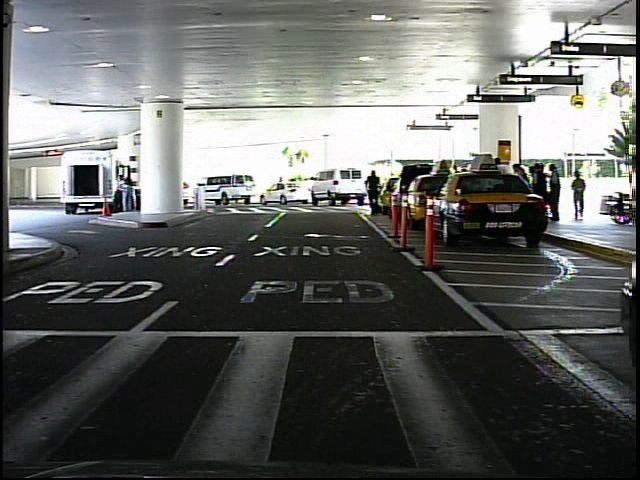person: (365, 168, 387, 219), (571, 171, 590, 225), (110, 174, 125, 215)
